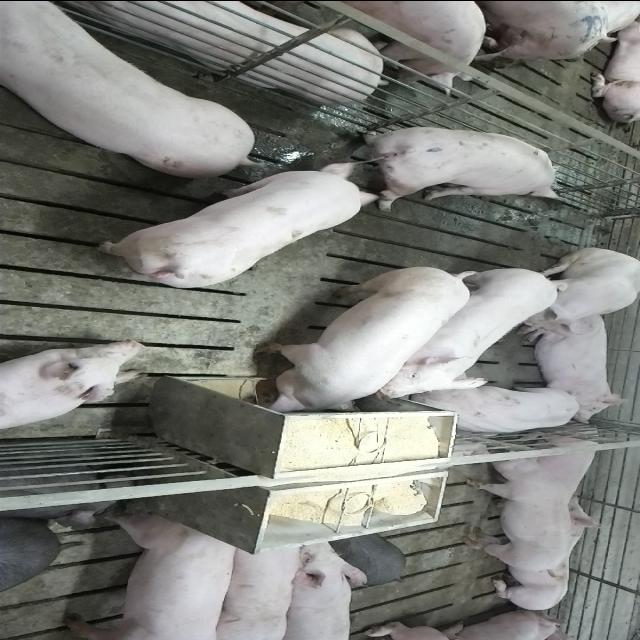Feeding: (245, 263, 481, 413)
Lateral_lying: (512, 316, 626, 426)
Sitting: (503, 246, 640, 336), (409, 380, 581, 436)
Standing: (0, 1, 264, 176), (89, 165, 376, 289), (377, 265, 561, 401), (68, 510, 242, 640), (344, 124, 570, 210), (300, 1, 497, 91), (274, 519, 372, 640), (203, 525, 306, 640)
Sternal_lying: (61, 1, 395, 102), (470, 496, 608, 611), (0, 334, 148, 429), (527, 428, 612, 502), (437, 608, 576, 640)
